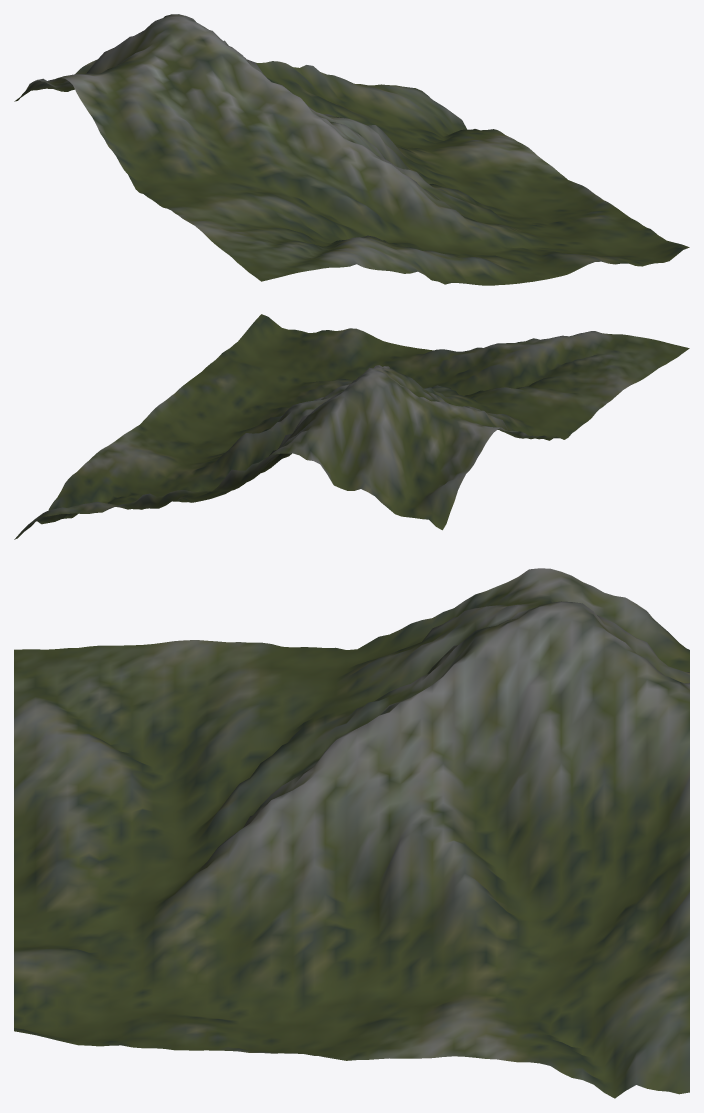
Rendered from TownLandscape_Mesh_x0125_3_2.fbx.
The picture shows the model from 3 angles, top to bottom: view 1: azimuth 30°, elevation 25°; view 2: azimuth 150°, elevation 25°; view 3: azimuth 270°, elevation 25°; orthographic projection. The views are drawn at different scales.
Visible parts, largest first — view 1: Terrain; view 2: Terrain; view 3: Terrain.
Part boxes in pixels (<box>): Terrain: <box>14,14,689,285</box>; Terrain: <box>14,314,689,539</box>; Terrain: <box>14,568,689,1098</box>.
Size of the model in its own units: 1024 by 474 by 1024.
